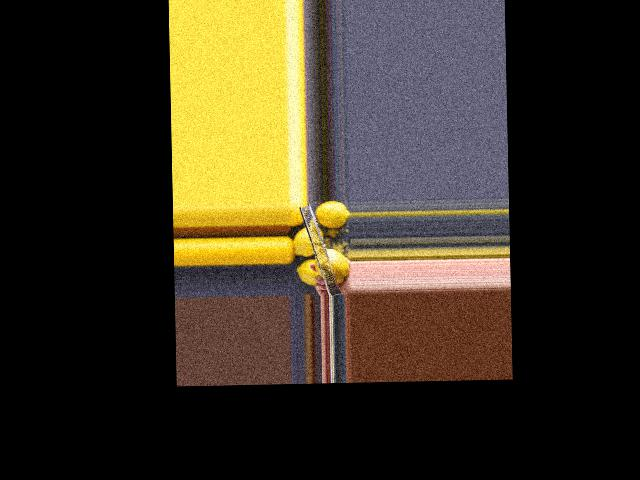lemon: (316, 201, 349, 233)
